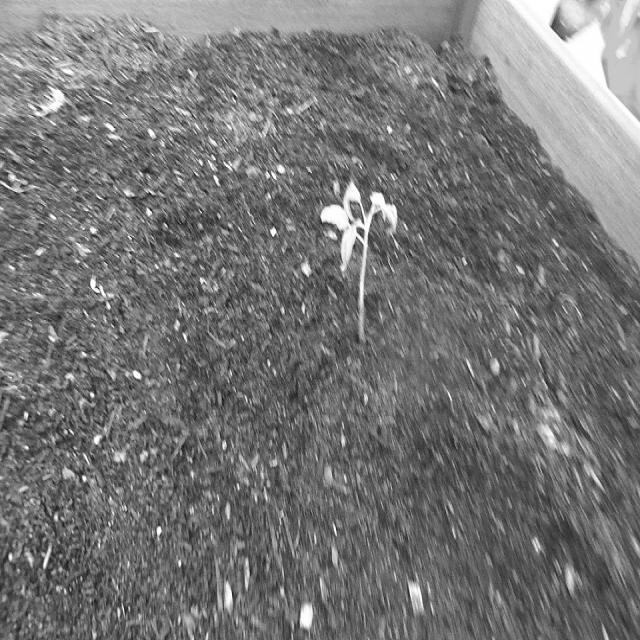Healthy: (318, 174, 402, 353)
